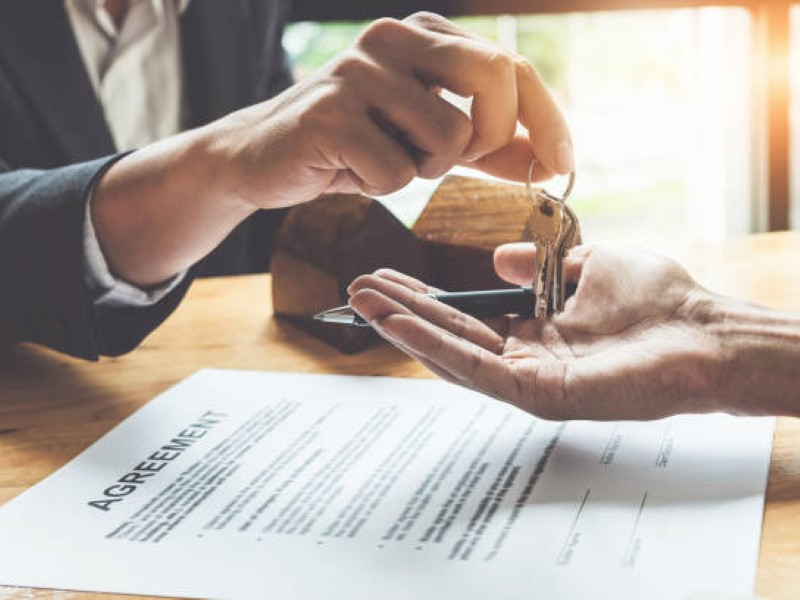key: (521, 184, 585, 329)
